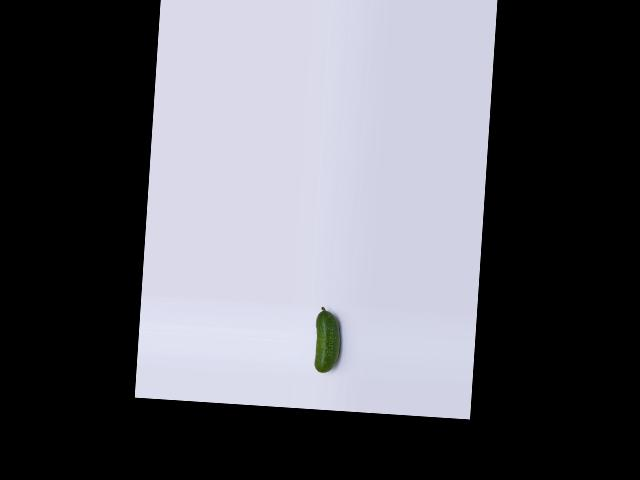cucumber: (313, 306, 342, 374)
